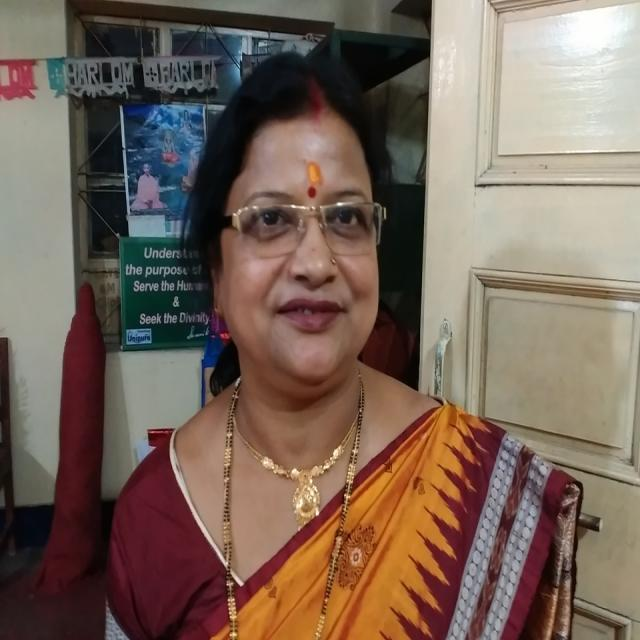Glasses: (219, 202, 384, 260)
